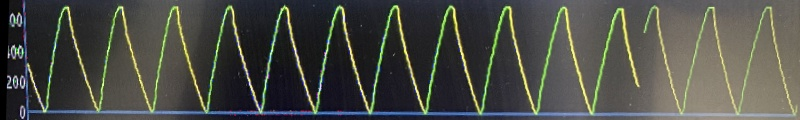normal_volume: (39, 0, 594, 118), (672, 0, 799, 119)
